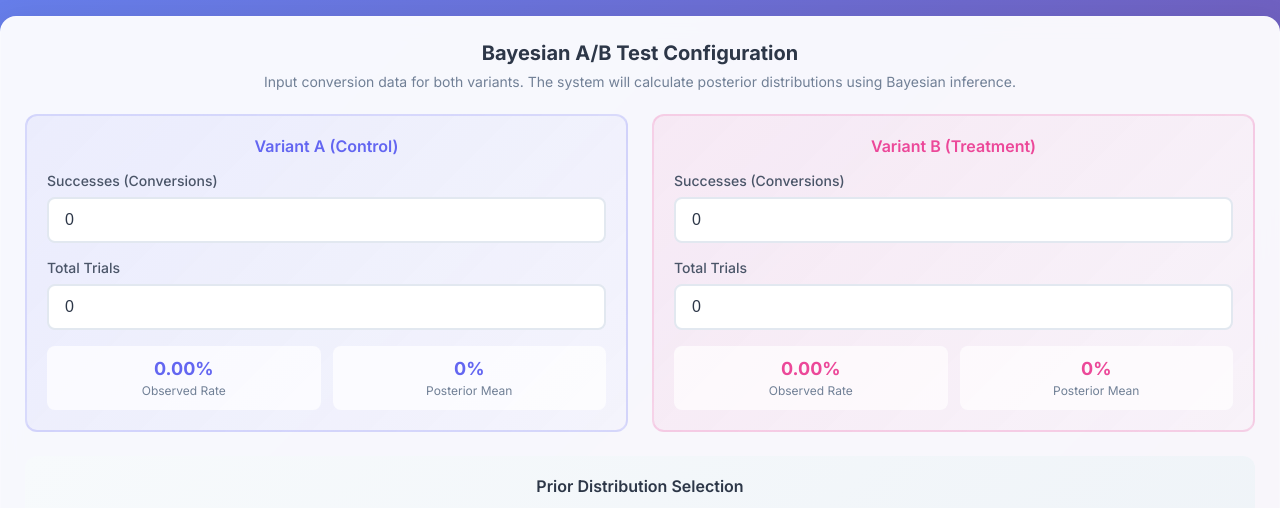
Test: ABTestInput › shows error when successes > trials
Replace the text in the 3rd number field with "10". click: coordinates (326, 307)
box: [47, 284, 606, 330]
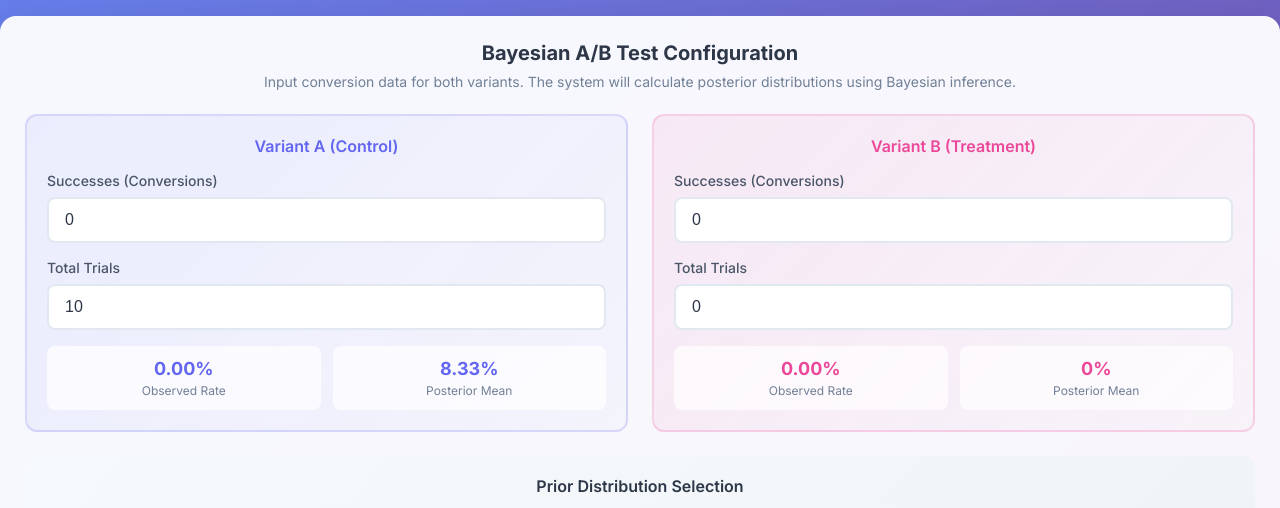
Replace the text in the 1st number field with "20". click: coordinates (326, 220)
box: [47, 197, 606, 243]
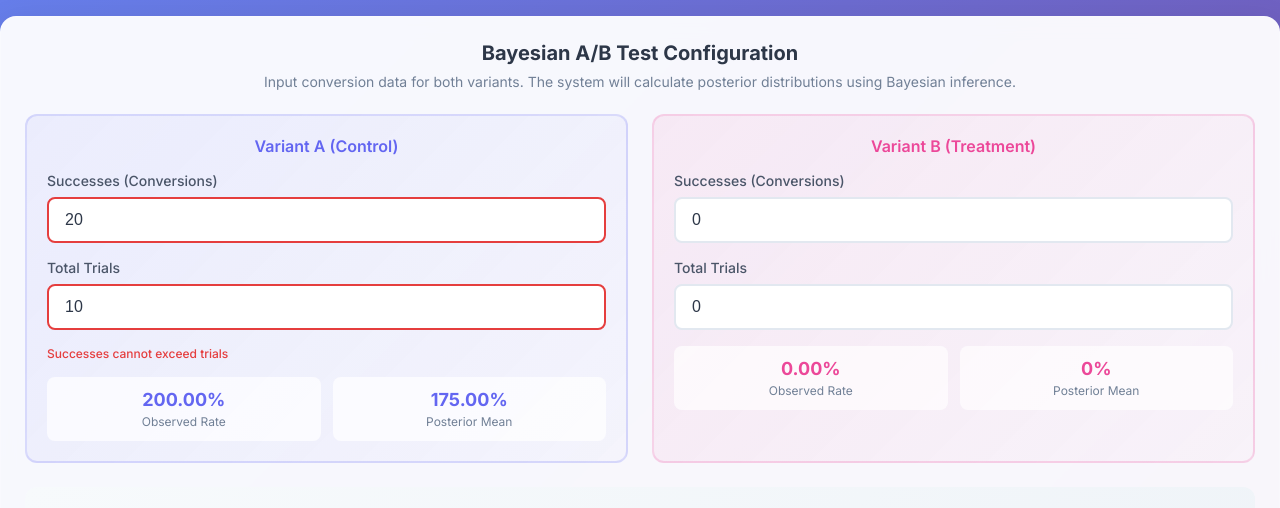
Expected: the text "Successes cannot exceed trials" is shown, [47, 346, 228, 361]
